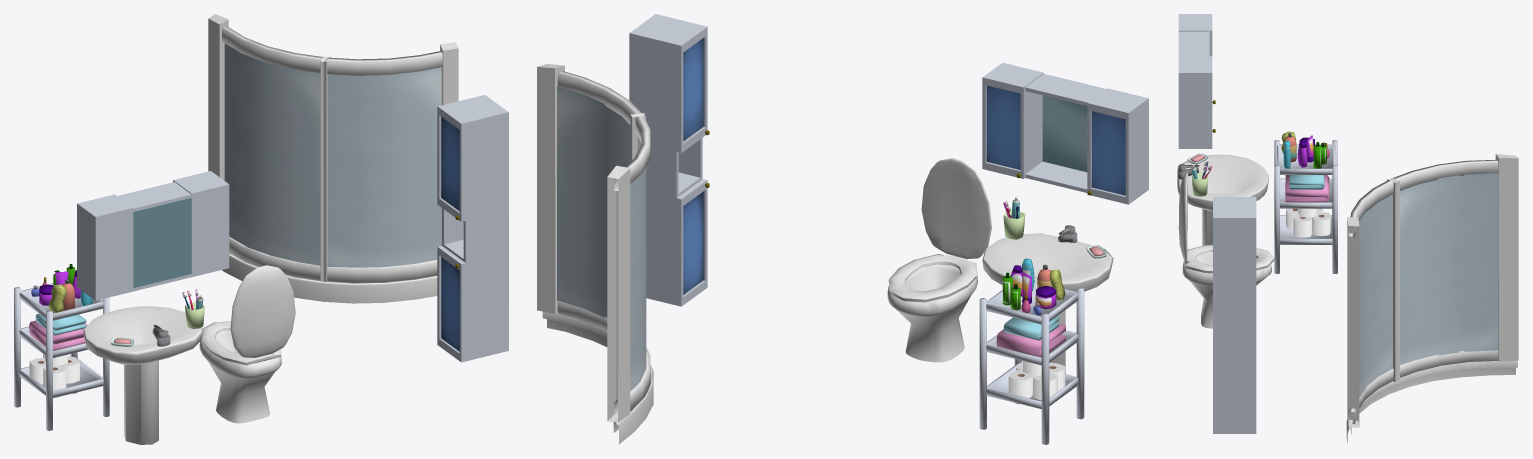
File: Bathroom_Small.fbx
3 views of the same model, side by side, from view 1: azimuth 30°, elevation 25°; view 2: azimuth 150°, elevation 25°; view 3: azimuth 270°, elevation 25° (orthographic). The views are drawn at different scales.
Visible parts, largest first — view 1: Shover_Cabin, Bathroom_Cabinet, Bathroom_mirror, Sink, Top, Down, Structure, Toilet_Paper, Towel_blu, Towel_Pink; view 2: Shover_Cabin, Bathroom_Cabinet, Bathroom_mirror, Down, Structure, Top, Sink, Toilet_Paper, Towel_blu, Towel_Pink; view 3: Shover_Cabin, Bathroom_Cabinet, Bathroom_mirror, Structure, Sink, Down, Toilet_Paper, Towel_blu, Top, Towel_Pink.
Boxes of the visible parts, x1,y1,x2,y2 form: Shover_Cabin: (208,14,458,303); Bathroom_Cabinet: (437,95,508,362); Bathroom_mirror: (77,171,229,300); Sink: (83,306,203,444); Top: (230,265,295,357); Down: (199,321,281,423); Structure: (14,283,109,430); Toilet_Paper: (29,354,79,390); Towel_blu: (29,320,87,350); Towel_Pink: (35,313,86,335); Shover_Cabin: (537,64,653,444); Bathroom_Cabinet: (629,14,709,306); Bathroom_mirror: (982,62,1148,204); Down: (887,254,977,362); Structure: (979,282,1084,444); Top: (921,158,991,259); Sink: (982,225,1113,373); Toilet_Paper: (1008,361,1065,400); Towel_blu: (996,324,1065,357); Towel_Pink: (1003,316,1059,340); Shover_Cabin: (1346,154,1518,443); Bathroom_Cabinet: (1213,197,1256,433); Bathroom_mirror: (1178,14,1215,148); Structure: (1274,140,1337,273); Sink: (1177,154,1268,245); Down: (1182,245,1274,328); Toilet_Paper: (1286,208,1330,237); Towel_blu: (1285,175,1329,202); Top: (1178,173,1188,261); Towel_Pink: (1289,175,1324,189).
Size of the model in its own units: 4.13 by 2.19 by 2.94.
